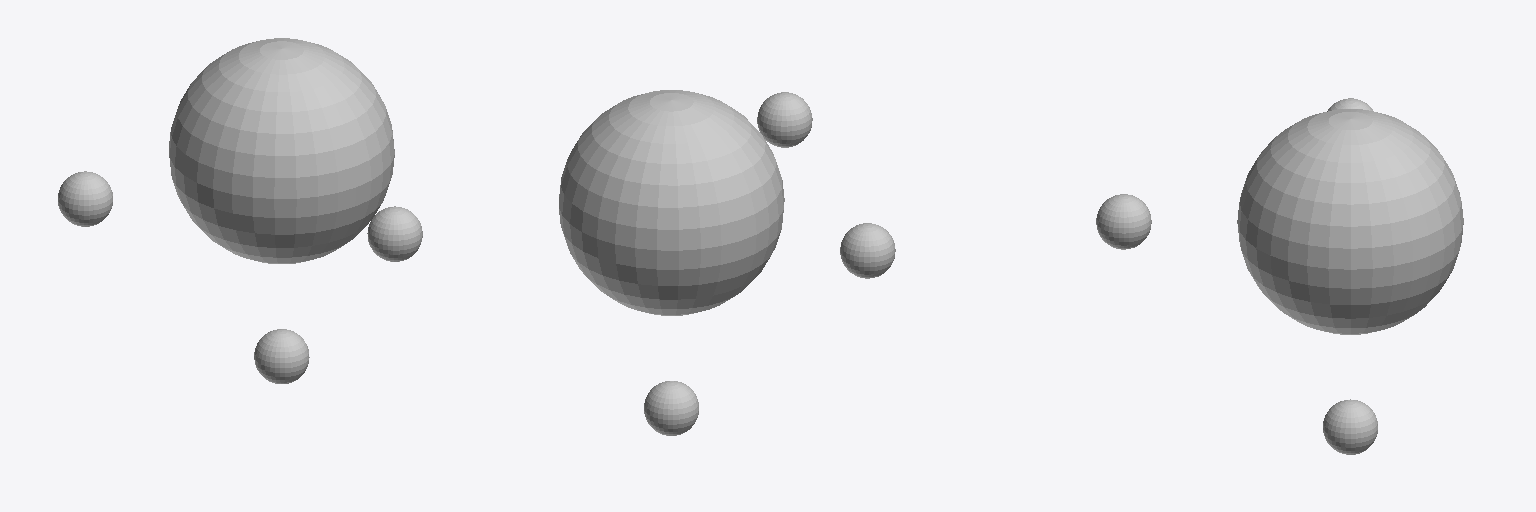
File: AtomicCatalyst.obj
3 renders of one model, left to right at view 1: azimuth 30°, elevation 25°; view 2: azimuth 150°, elevation 25°; view 3: azimuth 270°, elevation 25°, orthographic.
Visible parts, largest first — view 1: Nucleus_Main, Electron_1, Electron_3_Electron_2, Electron2_Electron_3; view 2: Nucleus_Main, Electron_1, Electron2_Electron_3, Electron_3_Electron_2; view 3: Nucleus_Main, Electron2_Electron_3, Electron_3_Electron_2.
Part boxes in pixels (x1,y1,x2,y2): Nucleus_Main: (169, 38, 394, 263); Electron_1: (58, 171, 112, 226); Electron_3_Electron_2: (254, 329, 309, 383); Electron2_Electron_3: (367, 206, 422, 261); Nucleus_Main: (559, 90, 784, 315); Electron_1: (840, 223, 895, 278); Electron2_Electron_3: (757, 92, 812, 147); Electron_3_Electron_2: (644, 381, 698, 435); Nucleus_Main: (1237, 109, 1463, 334); Electron2_Electron_3: (1096, 194, 1151, 249); Electron_3_Electron_2: (1323, 399, 1377, 454).
Bounding box in the file's own units: 0.3245 × 0.3245 × 0.3245.